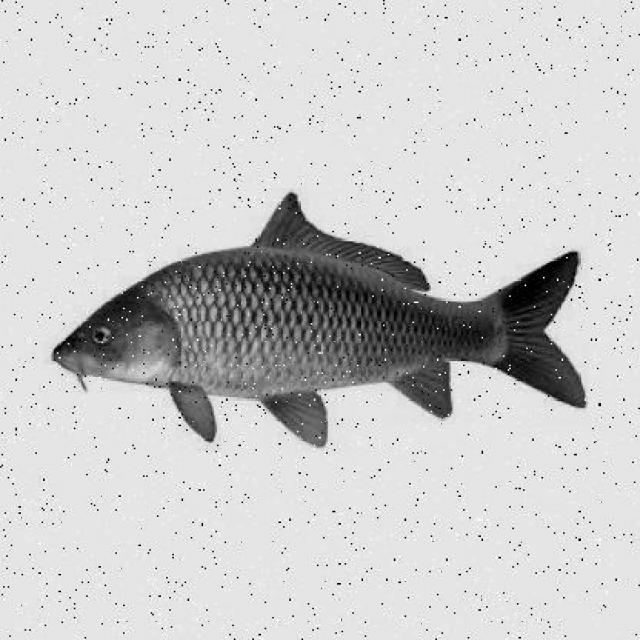ikan-mas: (53, 200, 584, 412)
